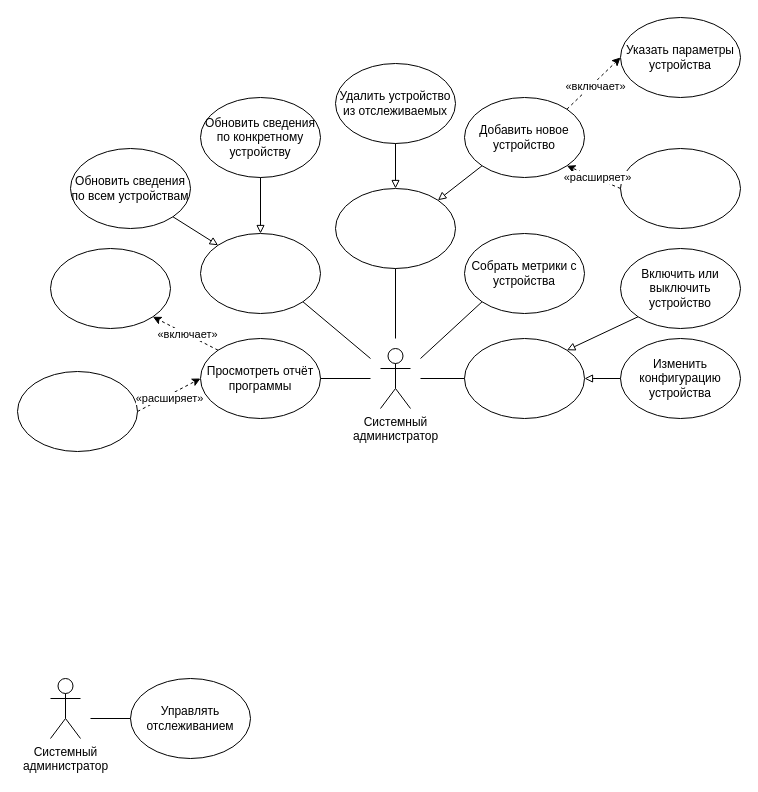
Image size: 758x792. Some labels were removed from this diagram. The shapes that lost their labels are listed below. From the top down, each one's box as (x1, y1, x2, y2) in pixels, then its label:
(620, 148, 740, 228): Явно указать собираемые метрики
(334, 188, 456, 268): Управлять отслеживанием устройств
(50, 248, 170, 328): Указать отчётный период
(200, 232, 320, 314): Обновить сведения о состоянии устройств
(464, 338, 584, 418): Отправить управляющее сообщение
(16, 370, 138, 452): Эскпортировать отчёт
